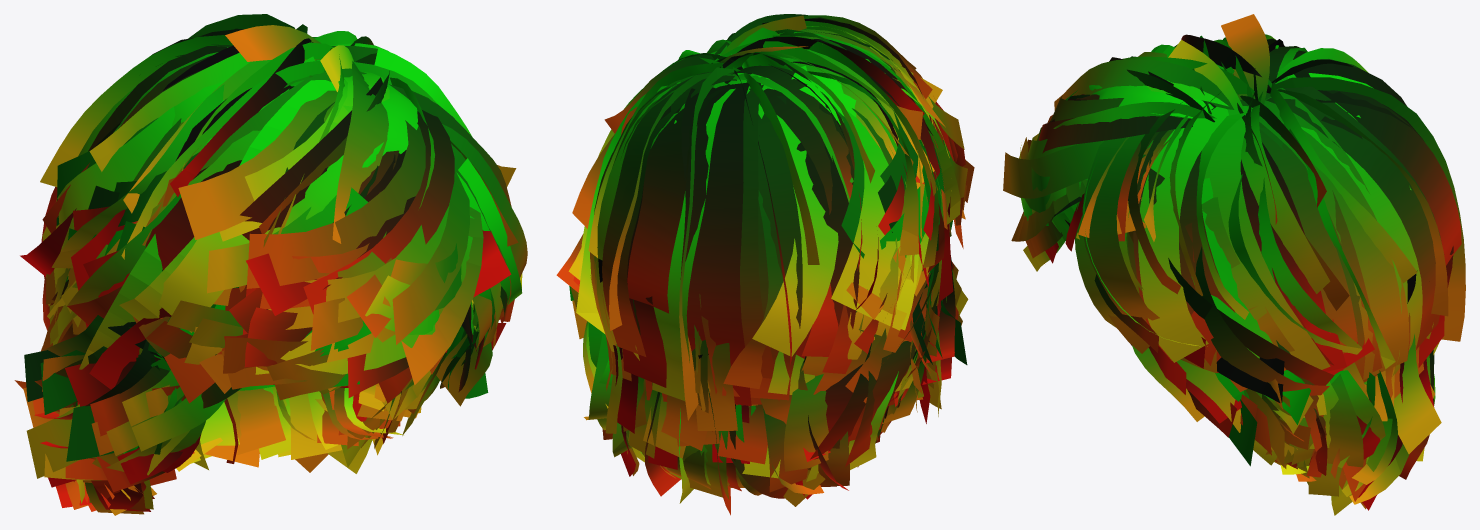
The model's file is Hair.fbx.
3 views of the same model, side by side, from view 1: azimuth 30°, elevation 25°; view 2: azimuth 150°, elevation 25°; view 3: azimuth 270°, elevation 25° (orthographic). The views are drawn at different scales.
Visible parts, largest first — view 1: HairPlanes_M; view 2: HairPlanes_M; view 3: HairPlanes_M.
Part boxes in pixels (left/top/right/bottom): HairPlanes_M: left=14, top=14, right=527, bottom=515; HairPlanes_M: left=556, top=14, right=974, bottom=515; HairPlanes_M: left=1003, top=14, right=1465, bottom=515.
Size of the model in its own units: 24.8 by 26.82 by 25.91.
